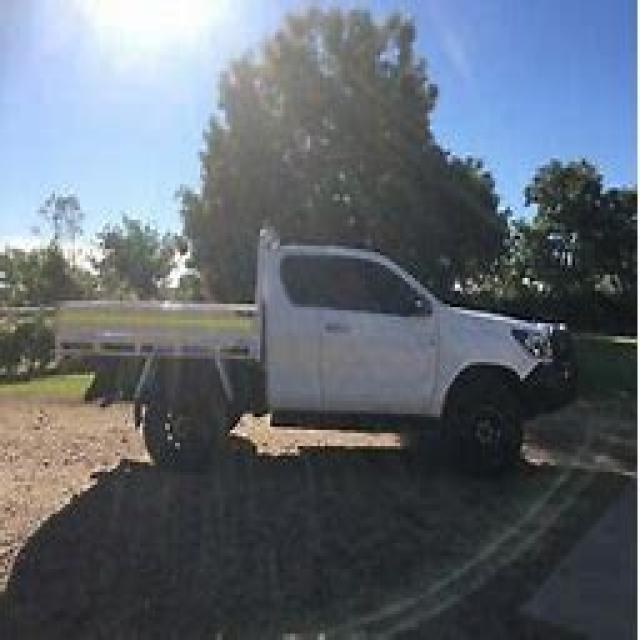light_vehicle: (50, 223, 582, 472)
